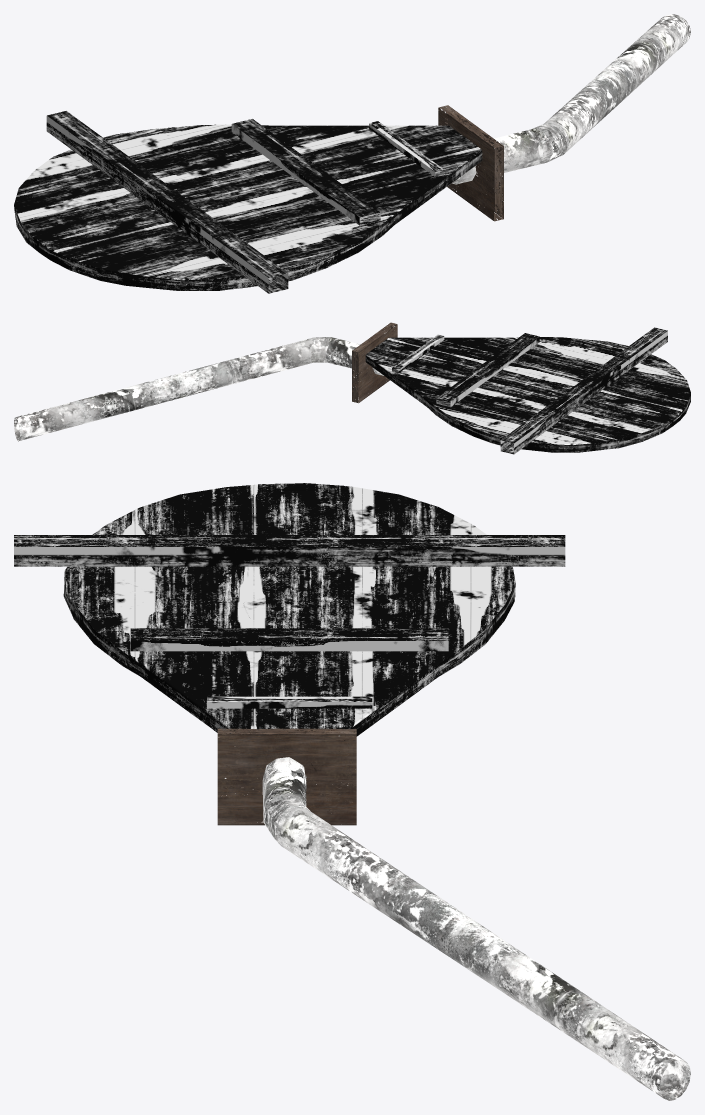
Rendered from SM_water_wheel_part_05.fbx.
The picture shows the model from 3 angles, top to bottom: view 1: azimuth 30°, elevation 25°; view 2: azimuth 150°, elevation 25°; view 3: azimuth 270°, elevation 25°; orthographic projection. The views are drawn at different scales.
Visible parts, largest first — view 1: SM_water_wheel_part_05_LOD0; view 2: SM_water_wheel_part_05_LOD0; view 3: SM_water_wheel_part_05_LOD0.
Part boxes in pixels (<box>): SM_water_wheel_part_05_LOD0: <box>14,14,690,293</box>; SM_water_wheel_part_05_LOD0: <box>14,322,690,454</box>; SM_water_wheel_part_05_LOD0: <box>14,483,690,1100</box>.
Size of the model in its own units: 517 by 305 by 78.3.
5 materials, 5 textured.
